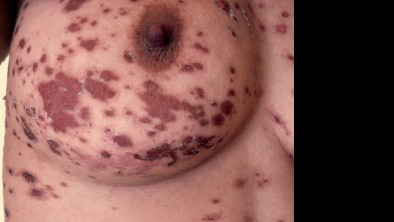SJS-TEN: (2, 0, 294, 221)
